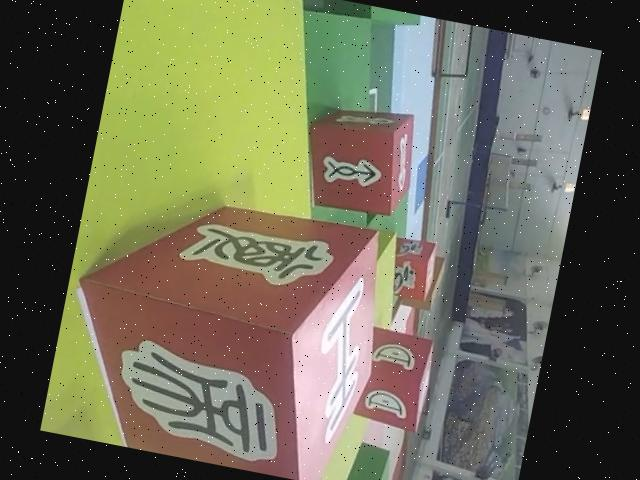R1: (384, 235, 442, 303)
R2 Fake: (44, 171, 401, 480)
R2 Real: (294, 94, 428, 222), (347, 323, 439, 440)
